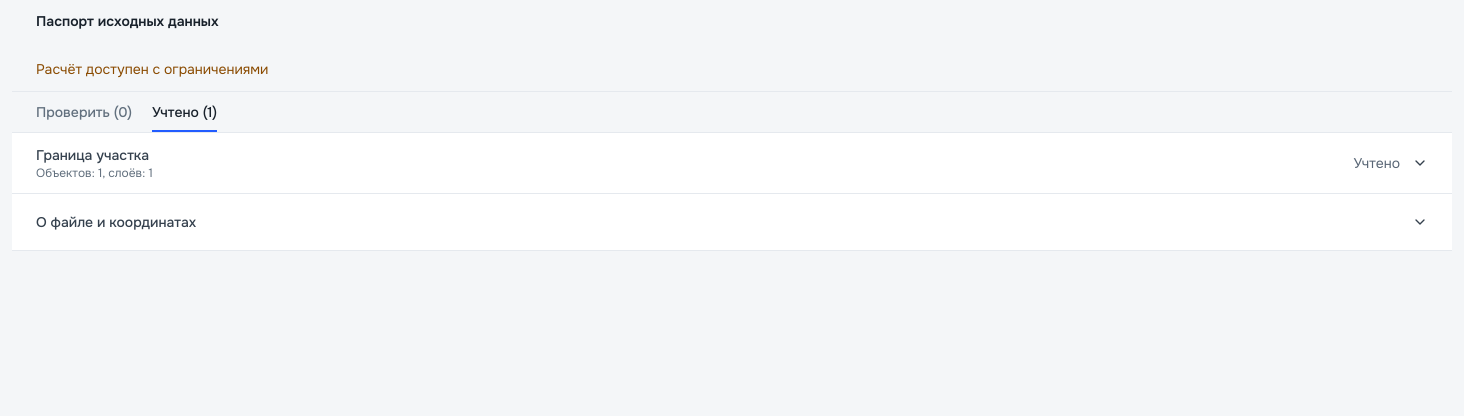
Scenario: DataPassportPanel › does not turn a missing display count from an older runtime into zero
Step 1. Click the button "Граница участка Объектов: 1, слоёв: 1 Учтено" → (92,155), box [12, 133, 1452, 193]
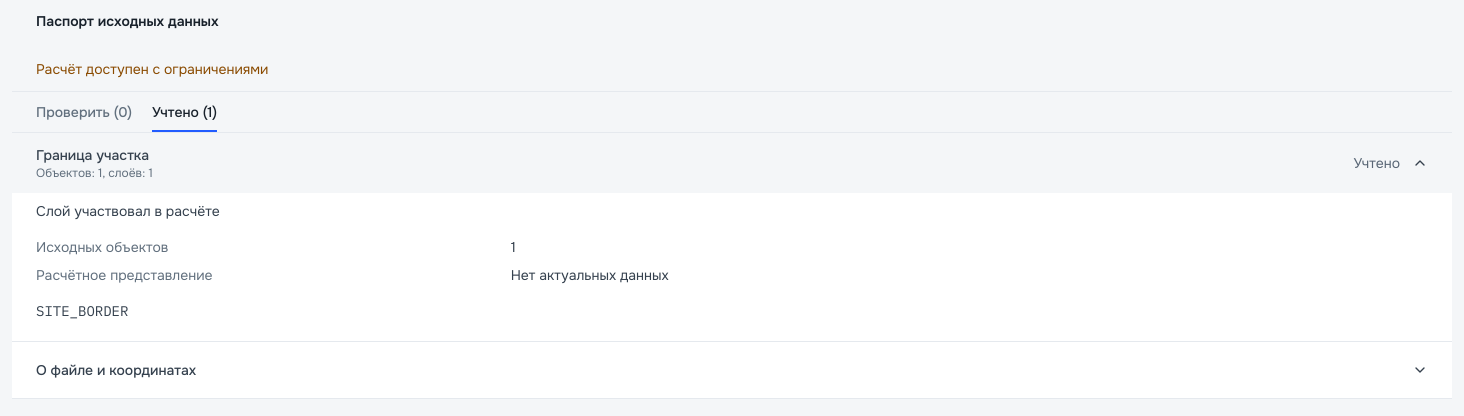
Expected: the text "Расчётное представление" is shown, [36, 266, 213, 284]
Expected: the text "Нет актуальных данных" is shown, [511, 266, 669, 284]
